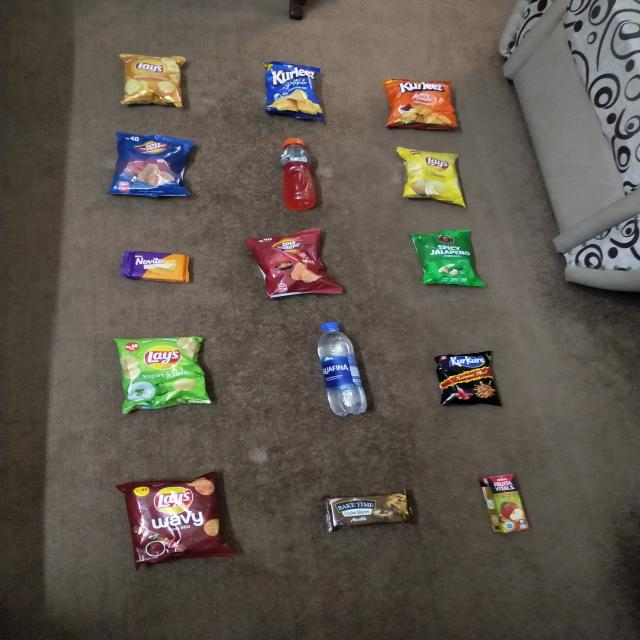Plastic: (116, 336, 211, 414), (244, 230, 336, 296), (113, 130, 193, 196), (318, 320, 368, 414), (408, 232, 482, 286), (115, 53, 185, 108), (398, 148, 464, 206), (387, 78, 459, 130), (264, 60, 324, 118), (440, 355, 502, 404), (277, 139, 316, 212), (119, 252, 189, 284)
